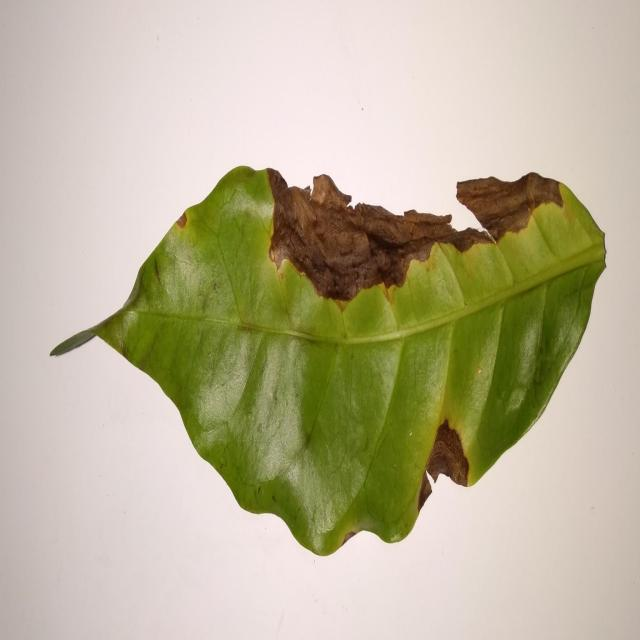Enfermedad-Antracnosis: (53, 166, 608, 559)
